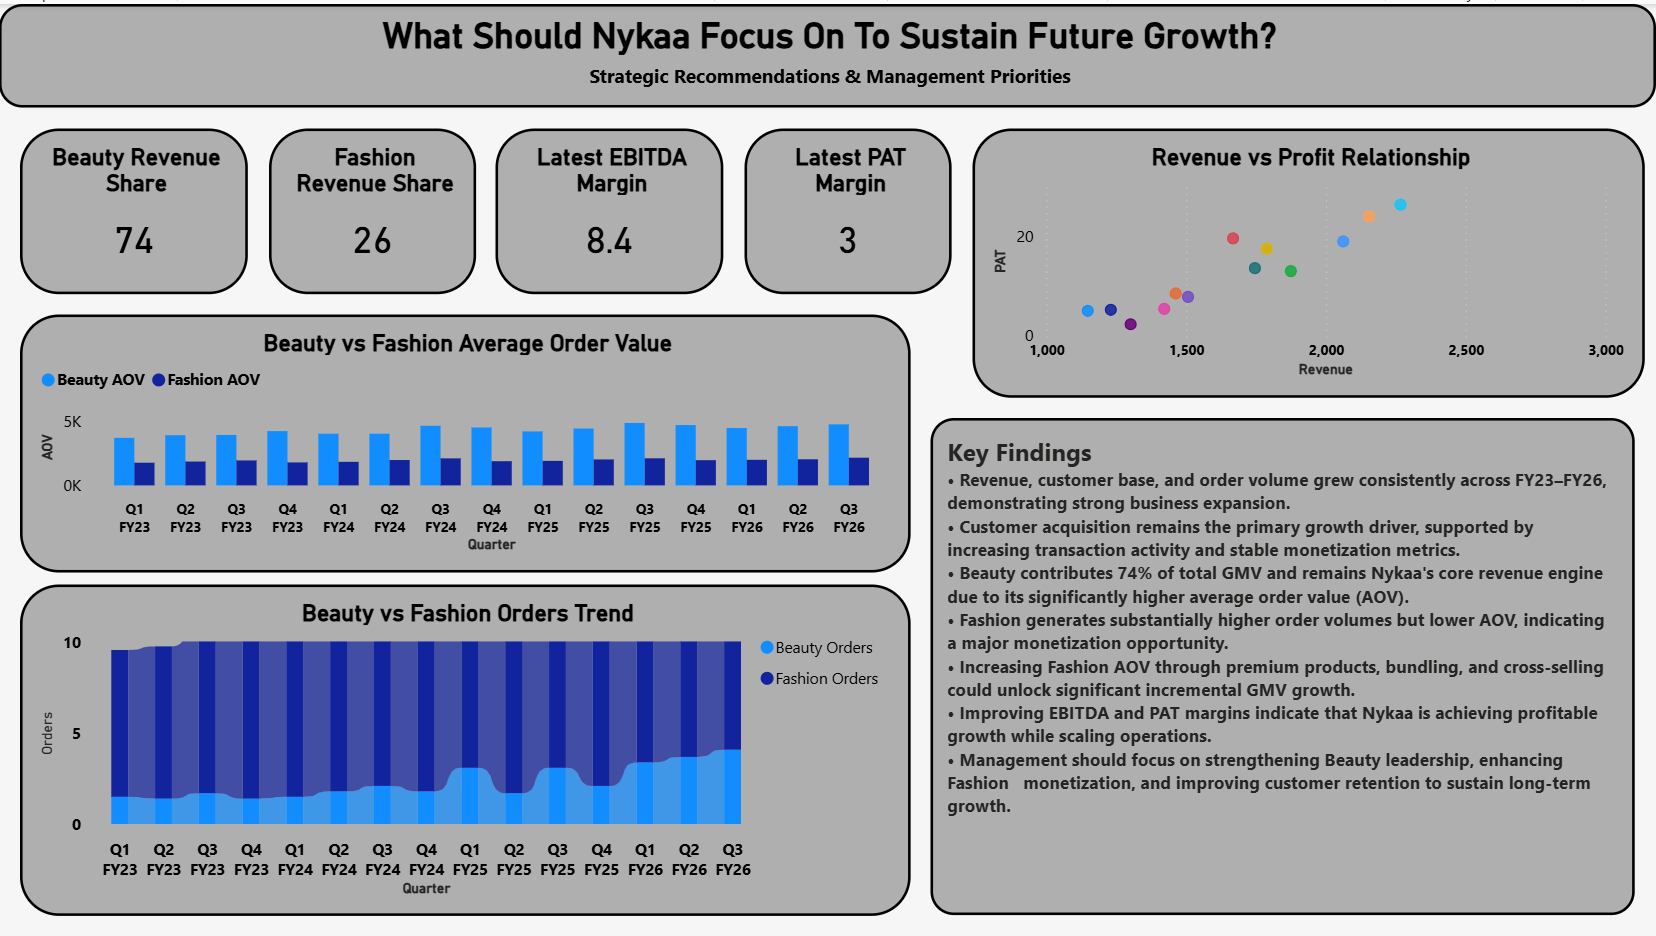

What the dashboard file says about the page in this screenshot:
{"tool":"powerbi","page":{"name":"Strategic_Recommendations","canvas":[1280,720],"ordinal":4},"visuals":[{"type":"textbox","title":"What Should Nykaa Focus On To Sustain Future Growth?","box":[0,0,1280,80],"z":0},{"type":"card","title":"Beauty Revenue Share","fields":{"Values":["Profit Bridge.Beauty Share %"]},"box":[16,96,176,128],"z":1000},{"type":"card","title":"Fashion Revenue Share","fields":{"Values":["Profit Bridge.Fashion Share %"]},"box":[208,96,160,128],"z":2000},{"type":"card","title":"Latest EBITDA Margin","fields":{"Values":["nykaa_master.Latest EBITDA Margin"]},"box":[384,96,176,128],"z":3000},{"type":"card","title":"Latest PAT Margin","fields":{"Values":["nykaa_master.Latest PAT Margin"]},"box":[576,96,160,128],"z":4000},{"type":"ribbonChart","title":"Beauty vs Fashion Orders Trend","fields":{"Category":["nykaa_master.quarter"],"Y":["Sum(nykaa_master.beauty_orders)","Sum(nykaa_master.fashion_orders)"]},"box":[16,448,688,256],"z":5000},{"type":"scatterChart","title":"Revenue vs Profit Relationship","fields":{"Y":["nykaa_master.pat_cr"],"Series":["nykaa_master.quarter"],"X":["nykaa_master.revenue_cr"]},"box":[752,96,519,208],"z":6000},{"type":"clusteredColumnChart","title":"Beauty vs Fashion Average Order Value","fields":{"Category":["nykaa_master.quarter"],"Y":["Sum(nykaa_master.beauty_aov)","Sum(nykaa_master.fashion_aov)"]},"box":[16,240,688,199],"z":7000},{"type":"textbox","box":[720,320,544,384],"z":8000}]}

Visuals, with their boxes in screenshot pixels (x1, y1, x2, y2), scaled from the page's 1280x720 canvas onto the 1656x936 screenshot:
"What Should Nykaa Focus On To Sustain Future Growth?" textbox: x1=0 y1=0 x2=1655 y2=104
"Beauty Revenue Share" card: x1=21 y1=125 x2=248 y2=291
"Fashion Revenue Share" card: x1=269 y1=125 x2=476 y2=291
"Latest EBITDA Margin" card: x1=497 y1=125 x2=724 y2=291
"Latest PAT Margin" card: x1=745 y1=125 x2=952 y2=291
"Beauty vs Fashion Orders Trend" ribbonChart: x1=21 y1=582 x2=911 y2=915
"Revenue vs Profit Relationship" scatterChart: x1=973 y1=125 x2=1644 y2=395
"Beauty vs Fashion Average Order Value" clusteredColumnChart: x1=21 y1=312 x2=911 y2=571
textbox: x1=932 y1=416 x2=1635 y2=915
